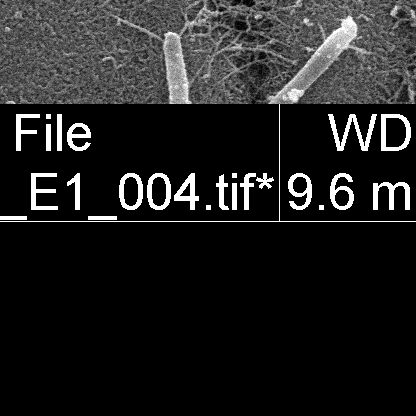cell2surface: (116, 6, 168, 47)
regular: (273, 17, 360, 99), (162, 30, 190, 103)
